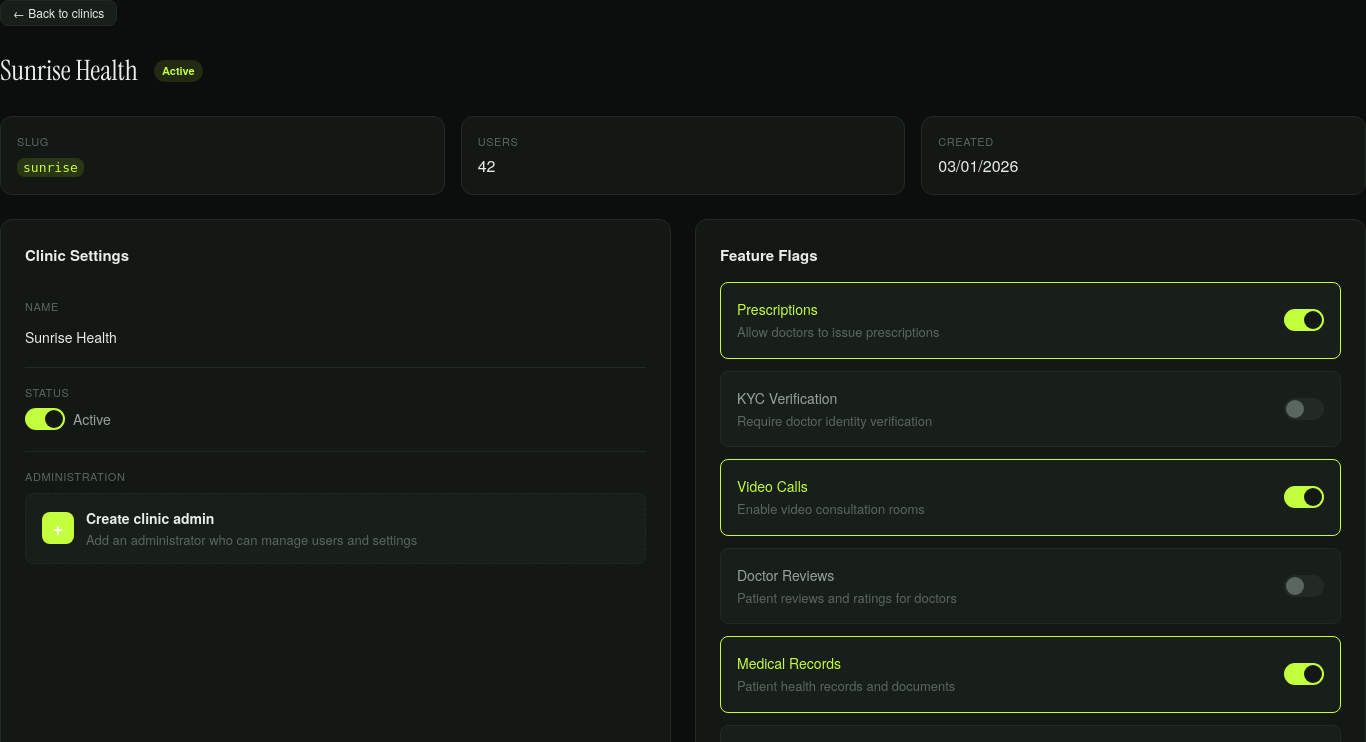
Test case: ClinicDetailPage › create clinic admin › opens dialog when button is clicked
Step 1. Click the button "Create clinic admin" → (336, 528), box [25,492,646,564]
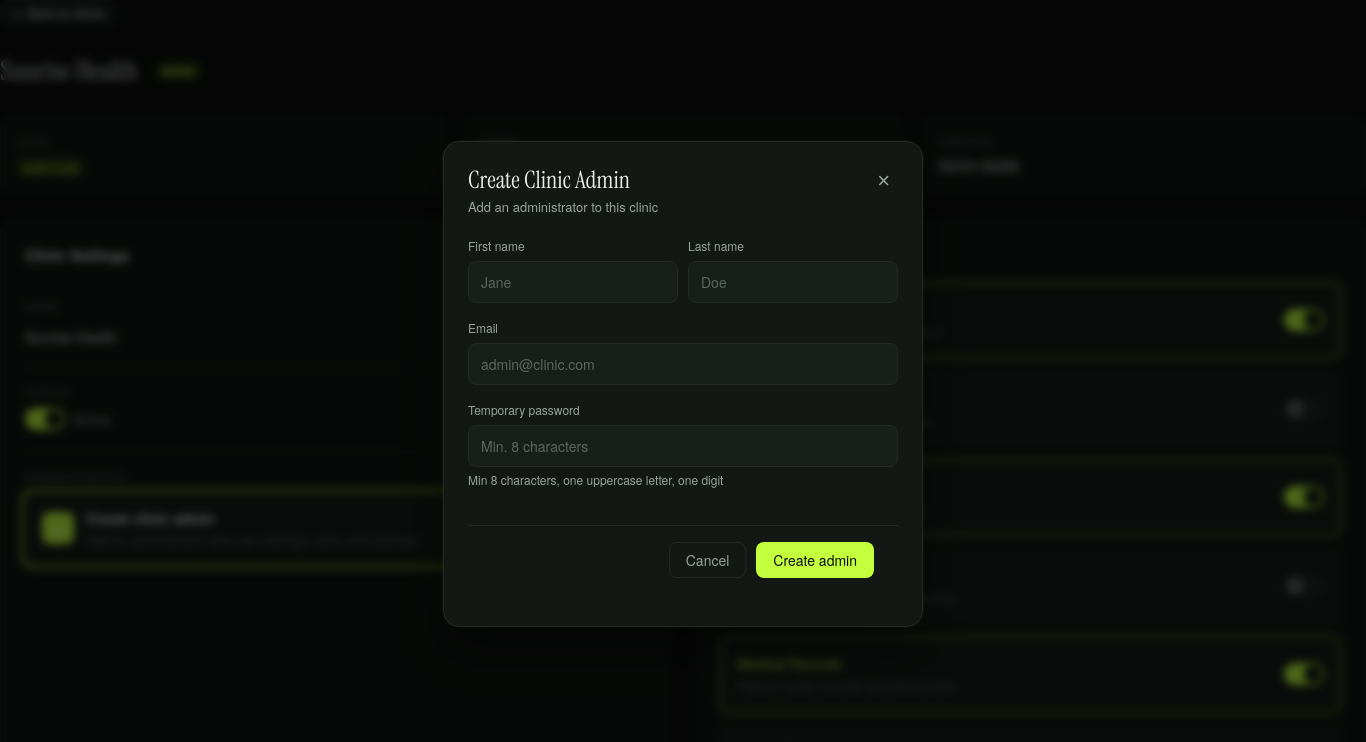
Result: the heading "Create Clinic Admin" is shown at [468,166,658,195]
